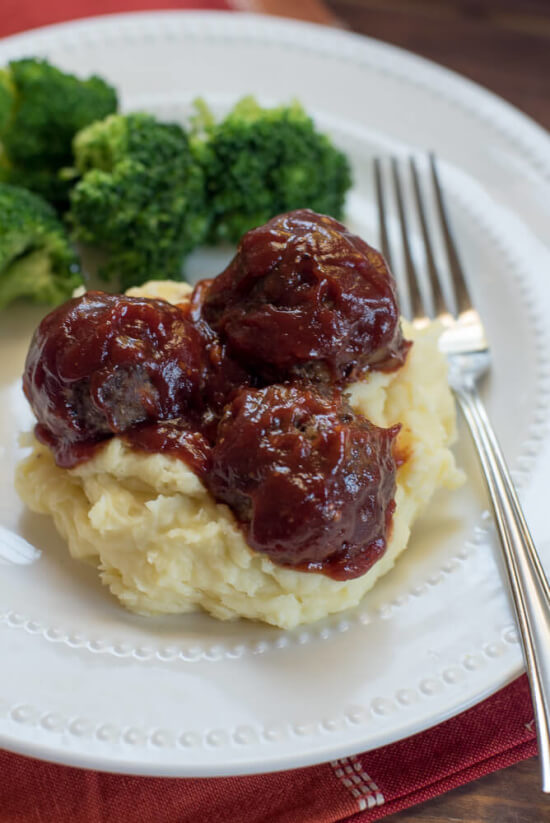meatballs: (215, 389, 392, 562), (222, 214, 394, 376), (24, 299, 200, 428)
